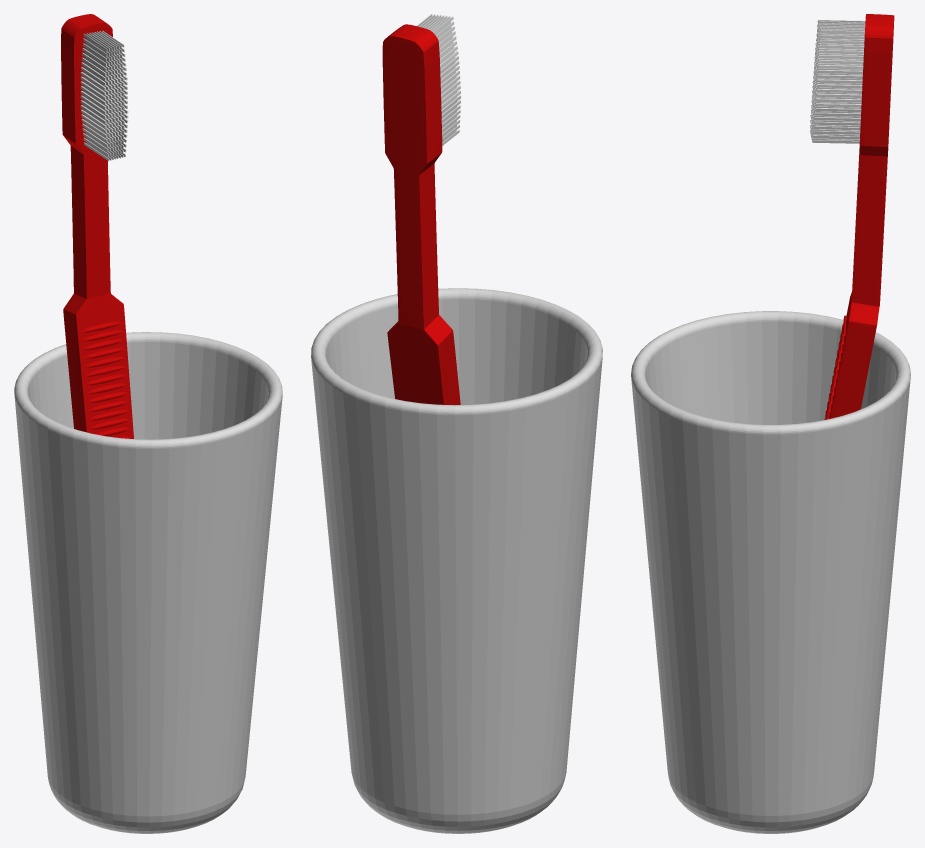
The model's file is szczoteczka i kubek.fbx.
The picture shows the model from 3 angles, left to right: view 1: azimuth 30°, elevation 25°; view 2: azimuth 150°, elevation 25°; view 3: azimuth 270°, elevation 25°; orthographic projection. The views are drawn at different scales.
Parts seen in each view (by area): view 1: cup, toothbrus2; view 2: cup, toothbrus2; view 3: cup, toothbrus2.
Boxes of the visible parts, bbox=[...] form: cup: bbox=[14, 332, 282, 833]; toothbrus2: bbox=[61, 14, 133, 438]; cup: bbox=[311, 288, 602, 833]; toothbrus2: bbox=[382, 14, 460, 405]; cup: bbox=[631, 311, 910, 833]; toothbrus2: bbox=[810, 14, 894, 419].
Bounding box in the file's own units: 58.31 × 179 × 58.4.
